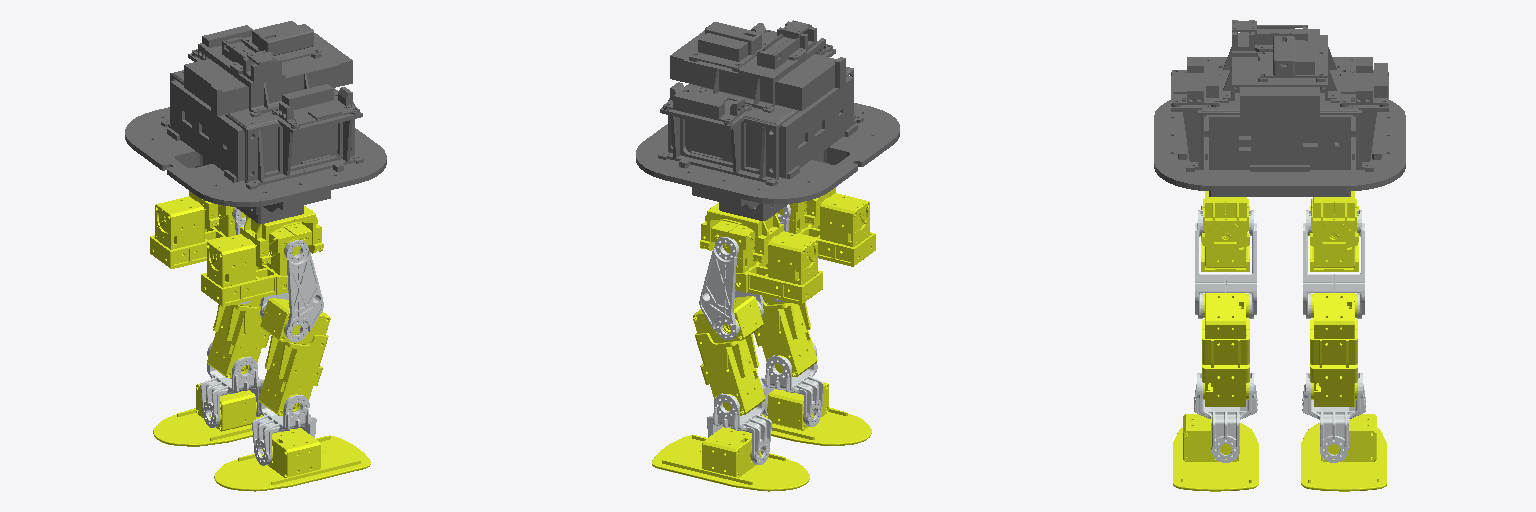
robot.urdf — exhx5_w_b_16:
<?xml version="1.0" encoding="utf-8"?>
<!-- This URDF was automatically created by SolidWorks to URDF Exporter! Originally created by [author] ([email redacted]) 
     Commit Version: 1.5.1-0-g916b5db  Build Version: 1.5.7152.31018
     For more information, please see http://wiki.ros.org/sw_urdf_exporter -->
<robot
  name="exhx5_w_b_16">
  <link
    name="body_link">
    <inertial>
      <origin
        xyz="0.00043545 0.00025536 0.10071"
        rpy="0 0 0" />
      <mass
        value="1.8238" />
      <inertia
        ixx="0.0025905"
        ixy="-5.6852E-06"
        ixz="-1.3106E-05"
        iyy="0.0024595"
        iyz="-1.261E-06"
        izz="0.0046407" />
    </inertial>
    <visual>
      <origin
        xyz="0 0 0"
        rpy="0 0 0" />
      <geometry>
        <mesh
          filename="../meshes/body_link.STL" />
      </geometry>
      <material
        name="">
        <color
          rgba="0.49804 0.49804 0.49804 1" />
      </material>
    </visual>
    <collision>
      <origin
        xyz="0 0 0"
        rpy="0 0 0" />
      <geometry>
        <mesh
          filename="../meshes/body_link.STL" />
      </geometry>
    </collision>
  </link>

  <link
    name="imu_link">
    <inertial>
      <origin
        xyz="-0.008387 1.336E-17 -0.0069463"
        rpy="0 0 0" />
      <mass
        value="0.0062931" />
      <inertia
        ixx="3.2242E-07"
        ixy="3.3527E-22"
        ixz="-6.9193E-08"
        iyy="9.2229E-07"
        iyz="-8.0392E-22"
        izz="1.1018E-06" />
    </inertial>
    <visual>
      <origin
        xyz="0 0 0"
        rpy="0 0 0" />
      <geometry>
        <mesh
          filename="../meshes/imu_link.STL" />
      </geometry>
      <material
        name="">
        <color
          rgba="0.79216 0.81961 0.93333 1" />
      </material>
    </visual>
    <collision>
      <origin
        xyz="0 0 0"
        rpy="0 0 0" />
      <geometry>
        <mesh
          filename="../meshes/imu_link.STL" />
      </geometry>
    </collision>
  </link>
  <joint
    name="imu"
    type="fixed">
    <origin
      xyz="0 0 0.0492"
      rpy="0 0 0" />
    <parent
      link="body_link" />
    <child
      link="imu_link" />
    <axis
      xyz="0 0 0" />
    <limit
      lower="-3.14"
      upper="3.14"
      effort="4"
      velocity="4" />
  </joint>
  <link
    name="l_hip_g_link">
    <inertial>
      <origin
        xyz="-0.0043797 -8.6604E-08 0.011813"
        rpy="0 0 0" />
      <mass
        value="0.061008" />
      <inertia
        ixx="1.167E-05"
        ixy="7.1767E-11"
        ixz="9.1442E-09"
        iyy="2.2342E-05"
        iyz="2.5177E-11"
        izz="2.4892E-05" />
    </inertial>
    <visual>
      <origin
        xyz="0 0 0"
        rpy="0 0 0" />
      <geometry>
        <mesh
          filename="../meshes/l_hip_g_link.STL" />
      </geometry>
      <material
        name="">
        <color
          rgba="0.9451 1 0.18431 1" />
      </material>
    </visual>
    <collision>
      <origin
        xyz="0 0 0"
        rpy="0 0 0" />
      <geometry>
        <mesh
          filename="../meshes/l_hip_g_link.STL" />
      </geometry>
    </collision>
  </link>
  <joint
    name="l_hip_g"
    type="fixed">
    <origin
      xyz="-.002 0.045 0"
      rpy="0 0 0" />
    <parent
      link="body_link" />
    <child
      link="l_hip_g_link" />
    <axis
      xyz="0 0 0" />
  </joint>
  <link
    name="l_hip_roll_link">
    <inertial>
      <origin
        xyz="0.013831 0.00033457 0.025453"
        rpy="0 0 0" />
      <mass
        value="0.2969" />
      <inertia
        ixx="7.8136E-05"
        ixy="7.265E-07"
        ixz="-6.9809E-08"
        iyy="9.2183E-05"
        iyz="-5.6881E-11"
        izz="7.1034E-05" />
    </inertial>
    <visual>
      <origin
        xyz="0 0 0"
        rpy="0 0 0" />
      <geometry>
        <mesh
          filename="../meshes/l_hip_roll_link.STL" />
      </geometry>
      <material
        name="">
        <color
          rgba="0.9451 1 0.18431 1" />
      </material>
    </visual>
    <collision>
      <origin
        xyz="0 0 0"
        rpy="0 0 0" />
      <geometry>
        <mesh
          filename="../meshes/l_hip_roll_link.STL" />
      </geometry>
    </collision>
  </link>
  <joint
    name="l_hip_roll"
    type="revolute">
    <origin
      xyz="0 0 0"
      rpy="3.1416 1.5708 0" />
    <parent
      link="l_hip_g_link" />
    <child
      link="l_hip_roll_link" />
    <axis
      xyz="0 0 1" />
    <limit
      lower="-3.14"
      upper="3.14"
      effort="4"
      velocity="4" />
  </joint>
  <link
    name="l_hip_pitch_link">
    <inertial>
      <origin
        xyz="0.041225 -0.007321 -5.0713E-08"
        rpy="0 0 0" />
      <mass
        value="0.051592" />
      <inertia
        ixx="2.7959E-05"
        ixy="2.0752E-06"
        ixz="-8.0934E-11"
        iyy="4.8156E-05"
        iyz="3.6317E-11"
        izz="2.9604E-05" />
    </inertial>
    <visual>
      <origin
        xyz="0 0 0"
        rpy="0 0 0" />
      <geometry>
        <mesh
          filename="../meshes/l_hip_pitch_link.STL" />
      </geometry>
      <material
        name="">
        <color
          rgba="0.89804 0.91765 0.92941 1" />
      </material>
    </visual>
    <collision>
      <origin
        xyz="0 0 0"
        rpy="0 0 0" />
      <geometry>
        <mesh
          filename="../meshes/l_hip_pitch_link.STL" />
      </geometry>
    </collision>
  </link>
  <joint
    name="l_hip_pitch"
    type="revolute">
    <origin
      xyz="0 0 0"
      rpy="1.5708 0 0" />
    <parent
      link="l_hip_roll_link" />
    <child
      link="l_hip_pitch_link" />
    <axis
      xyz="0 0 1" />
    <limit
      lower="-3.14"
      upper="3.14"
      effort="4"
      velocity="4" />
  </joint>
  <link
    name="l_knee_link">
    <inertial>
      <origin
        xyz="0.033756 -0.0084189 -6.6115E-09"
        rpy="0 0 0" />
      <mass
        value="0.28878" />
      <inertia
        ixx="6.6724E-05"
        ixy="7.5004E-07"
        ixz="-8.4578E-07"
        iyy="6.5699E-05"
        iyz="4.1085E-07"
        izz="7.0381E-05" />
    </inertial>
    <visual>
      <origin
        xyz="0 0 0"
        rpy="0 0 0" />
      <geometry>
        <mesh
          filename="../meshes/l_knee_link.STL" />
      </geometry>
      <material
        name="">
        <color
          rgba="0.9451 1 0.18431 1" />
      </material>
    </visual>
    <collision>
      <origin
        xyz="0 0 0"
        rpy="0 0 0" />
      <geometry>
        <mesh
          filename="../meshes/l_knee_link.STL" />
      </geometry>
    </collision>
  </link>
  <joint
    name="l_knee"
    type="revolute">
    <origin
      xyz="0.075954 0 0"
      rpy="0 0 0" />
    <parent
      link="l_hip_pitch_link" />
    <child
      link="l_knee_link" />
    <axis
      xyz="0 0 1" />
    <limit
      lower="-3.14"
      upper="3.14"
      effort="4"
      velocity="4" />
  </joint>
  <link
    name="l_ank_pitch_link">
    <inertial>
      <origin
        xyz="0.022786 -7.3909E-09 -7.1981E-06"
        rpy="0 0 0" />
      <mass
        value="0.044772" />
      <inertia
        ixx="1.777E-05"
        ixy="8.555E-14"
        ixz="-3.3713E-09"
        iyy="1.7119E-05"
        iyz="1.7593E-11"
        izz="1.8661E-05" />
    </inertial>
    <visual>
      <origin
        xyz="0 0 0"
        rpy="0 0 0" />
      <geometry>
        <mesh
          filename="../meshes/l_ank_pitch_link.STL" />
      </geometry>
      <material
        name="">
        <color
          rgba="0.89804 0.91765 0.92941 1" />
      </material>
    </visual>
    <collision>
      <origin
        xyz="0 0 0"
        rpy="0 0 0" />
      <geometry>
        <mesh
          filename="../meshes/l_ank_pitch_link.STL" />
      </geometry>
    </collision>
  </link>
  <joint
    name="l_ank_pitch"
    type="revolute">
    <origin
      xyz="0.074602 0 0"
      rpy="3.1416 0 0" />
    <parent
      link="l_knee_link" />
    <child
      link="l_ank_pitch_link" />
    <axis
      xyz="0 0 1" />
    <limit
      lower="-3.14"
      upper="3.14"
      effort="4"
      velocity="4" />
  </joint>
  <link
    name="l_ank_roll_link">
    <inertial>
      <origin
        xyz="0.0047069 0.010728 0.0015299"
        rpy="0 0 0" />
      <mass
        value="0.16774" />
      <inertia
        ixx="0.00012039"
        ixy="-3.7428E-09"
        ixz="4.4069E-08"
        iyy="8.7735E-05"
        iyz="7.0469E-07"
        izz="4.7866E-05" />
    </inertial>
    <visual>
      <origin
        xyz="0 0 0"
        rpy="0 0 0" />
      <geometry>
        <mesh
          filename="../meshes/l_ank_roll_link.STL" />
      </geometry>
      <material
        name="">
        <color
          rgba="0.9451 1 0.18431 1" />
      </material>
    </visual>
    <collision>
      <origin
        xyz="0 0 0"
        rpy="0 0 0" />
      <geometry>
        <mesh
          filename="../meshes/l_ank_roll_link.STL" />
      </geometry>
    </collision>
  </link>
  <joint
    name="l_ank_roll"
    type="revolute">
    <origin
      xyz="0.0465 0 0"
      rpy="-1.5708 0 0" />
    <parent
      link="l_ank_pitch_link" />
    <child
      link="l_ank_roll_link" />
    <axis
      xyz="0 0 1" />
    <limit
      lower="-3.14"
      upper="3.14"
      effort="4"
      velocity="4" />
  </joint>
  <link
    name="r_hip_g_link">
    <inertial>
      <origin
        xyz="-0.0043797 -8.6604E-08 0.011813"
        rpy="0 0 0" />
      <mass
        value="0.061008" />
      <inertia
        ixx="1.167E-05"
        ixy="7.1767E-11"
        ixz="9.1442E-09"
        iyy="2.2342E-05"
        iyz="2.5177E-11"
        izz="2.4892E-05" />
    </inertial>
    <visual>
      <origin
        xyz="0 0 0"
        rpy="0 0 0" />
      <geometry>
        <mesh
          filename="../meshes/r_hip_g_link.STL" />
      </geometry>
      <material
        name="">
        <color
          rgba="0.9451 1 0.18431 1" />
      </material>
    </visual>
    <collision>
      <origin
        xyz="0 0 0"
        rpy="0 0 0" />
      <geometry>
        <mesh
          filename="../meshes/r_hip_g_link.STL" />
      </geometry>
    </collision>
  </link>
  <joint
    name="r_hip_g"
    type="fixed">
    <origin
      xyz="-.002 -.045 0"
      rpy="0 0 0" />
    <parent
      link="body_link" />
    <child
      link="r_hip_g_link" />
    <axis
      xyz="0 0 0" />
  </joint>
  <link
    name="r_hip_roll_link">
    <inertial>
      <origin
        xyz="0.013831 0.00033457 0.025453"
        rpy="0 0 0" />
      <mass
        value="0.2969" />
      <inertia
        ixx="7.8136E-05"
        ixy="7.265E-07"
        ixz="-6.9809E-08"
        iyy="9.2183E-05"
        iyz="-5.6881E-11"
        izz="7.1034E-05" />
    </inertial>
    <visual>
      <origin
        xyz="0 0 0"
        rpy="0 0 0" />
      <geometry>
        <mesh
          filename="../meshes/r_hip_roll_link.STL" />
      </geometry>
      <material
        name="">
        <color
          rgba="0.9451 1 0.18431 1" />
      </material>
    </visual>
    <collision>
      <origin
        xyz="0 0 0"
        rpy="0 0 0" />
      <geometry>
        <mesh
          filename="../meshes/r_hip_roll_link.STL" />
      </geometry>
    </collision>
  </link>
  <joint
    name="r_hip_roll"
    type="revolute">
    <origin
      xyz="0 0 0"
      rpy="3.1416 1.5708 0" />
    <parent
      link="r_hip_g_link" />
    <child
      link="r_hip_roll_link" />
    <axis
      xyz="0 0 1" />
    <limit
      lower="-3.14"
      upper="3.14"
      effort="4"
      velocity="4" />
  </joint>
  <link
    name="r_hip_pitch_link">
    <inertial>
      <origin
        xyz="0.041225 0.007321 5.0713E-08"
        rpy="0 0 0" />
      <mass
        value="0.051592" />
      <inertia
        ixx="2.7959E-05"
        ixy="-2.0752E-06"
        ixz="8.0934E-11"
        iyy="4.8156E-05"
        iyz="3.6317E-11"
        izz="2.9604E-05" />
    </inertial>
    <visual>
      <origin
        xyz="0 0 0"
        rpy="0 0 0" />
      <geometry>
        <mesh
          filename="../meshes/r_hip_pitch_link.STL" />
      </geometry>
      <material
        name="">
        <color
          rgba="0.89804 0.91765 0.92941 1" />
      </material>
    </visual>
    <collision>
      <origin
        xyz="0 0 0"
        rpy="0 0 0" />
      <geometry>
        <mesh
          filename="../meshes/r_hip_pitch_link.STL" />
      </geometry>
    </collision>
  </link>
  <joint
    name="r_hip_pitch"
    type="revolute">
    <origin
      xyz="0 0 0"
      rpy="-1.5708 0 0" />
    <parent
      link="r_hip_roll_link" />
    <child
      link="r_hip_pitch_link" />
    <axis
      xyz="0 0 1" />
    <limit
      lower="-3.14"
      upper="3.14"
      effort="4"
      velocity="4" />
  </joint>
  <link
    name="r_knee_link">
    <inertial>
      <origin
        xyz="0.033757 0.0084176 6.6115E-09"
        rpy="0 0 0" />
      <mass
        value="0.28878" />
      <inertia
        ixx="6.6724E-05"
        ixy="-7.5008E-07"
        ixz="8.458E-07"
        iyy="6.5699E-05"
        iyz="4.1081E-07"
        izz="7.0381E-05" />
    </inertial>
    <visual>
      <origin
        xyz="0 0 0"
        rpy="0 0 0" />
      <geometry>
        <mesh
          filename="../meshes/r_knee_link.STL" />
      </geometry>
      <material
        name="">
        <color
          rgba="0.9451 1 0.18431 1" />
      </material>
    </visual>
    <collision>
      <origin
        xyz="0 0 0"
        rpy="0 0 0" />
      <geometry>
        <mesh
          filename="../meshes/r_knee_link.STL" />
      </geometry>
    </collision>
  </link>
  <joint
    name="r_knee"
    type="revolute">
    <origin
      xyz="0.075954 0 0"
      rpy="0 0 0" />
    <parent
      link="r_hip_pitch_link" />
    <child
      link="r_knee_link" />
    <axis
      xyz="0 0 1" />
    <limit
      lower="-3.14"
      upper="3.14"
      effort="4"
      velocity="4" />
  </joint>
  <link
    name="r_ank_pitch_link">
    <inertial>
      <origin
        xyz="0.025786 -7.3887E-09 -7.1981E-06"
        rpy="0 0 0" />
      <mass
        value="0.044772" />
      <inertia
        ixx="1.777E-05"
        ixy="8.5434E-14"
        ixz="-3.3713E-09"
        iyy="1.7119E-05"
        iyz="1.7592E-11"
        izz="1.8661E-05" />
    </inertial>
    <visual>
      <origin
        xyz="0 0 0"
        rpy="0 0 0" />
      <geometry>
        <mesh
          filename="../meshes/r_ank_pitch_link.STL" />
      </geometry>
      <material
        name="">
        <color
          rgba="0.89804 0.91765 0.92941 1" />
      </material>
    </visual>
    <collision>
      <origin
        xyz="0 0 0"
        rpy="0 0 0" />
      <geometry>
        <mesh
          filename="../meshes/r_ank_pitch_link.STL" />
      </geometry>
    </collision>
  </link>
  <joint
    name="r_ank_pitch"
    type="revolute">
    <origin
      xyz="0.071602 0 0"
      rpy="3.1416 0 0" />
    <parent
      link="r_knee_link" />
    <child
      link="r_ank_pitch_link" />
    <axis
      xyz="0 0 1" />
    <limit
      lower="-3.14"
      upper="3.14"
      effort="4"
      velocity="4" />
  </joint>
  <link
    name="r_ank_roll_link">
    <inertial>
      <origin
        xyz="0.0077069 -0.010728 0.0015299"
        rpy="0 0 0" />
      <mass
        value="0.16774" />
      <inertia
        ixx="0.00012039"
        ixy="3.743E-09"
        ixz="4.407E-08"
        iyy="8.7735E-05"
        iyz="-7.0467E-07"
        izz="4.7866E-05" />
    </inertial>
    <visual>
      <origin
        xyz="0 0 0"
        rpy="0 0 0" />
      <geometry>
        <mesh
          filename="../meshes/r_ank_roll_link.STL" />
      </geometry>
      <material
        name="">
        <color
          rgba="0.9451 1 0.18431 1" />
      </material>
    </visual>
    <collision>
      <origin
        xyz="0 0 0"
        rpy="0 0 0" />
      <geometry>
        <mesh
          filename="../meshes/r_ank_roll_link.STL" />
      </geometry>
    </collision>
  </link>
  <joint
    name="r_ank_roll"
    type="revolute">
    <origin
      xyz="0.0465 0 0"
      rpy="1.5708 0 0" />
    <parent
      link="r_ank_pitch_link" />
    <child
      link="r_ank_roll_link" />
    <axis
      xyz="0 0 1" />
    <limit
      lower="-3.14"
      upper="3.14"
      effort="4"
      velocity="4" />
  </joint>
  <transmission name="r_hip_roll_tran">
    <type>transmission_interface/SimpleTransmission</type>
    <joint name="r_hip_roll">
      <hardwareInterface>hardware_interface/EffortJointInterface</hardwareInterface>
    </joint>
    <actuator name="r_hip_roll_motor">
      <hardwareInterface>hardware_interface/EffortJointInterface</hardwareInterface>
      <mechanicalReduction>1</mechanicalReduction>
    </actuator>
  </transmission>
  <transmission name="r_hip_pitch_tran">
    <type>transmission_interface/SimpleTransmission</type>
    <joint name="r_hip_pitch">
      <hardwareInterface>hardware_interface/EffortJointInterface</hardwareInterface>
    </joint>
    <actuator name="r_hip_pitch_motor">
      <hardwareInterface>hardware_interface/EffortJointInterface</hardwareInterface>
      <mechanicalReduction>1</mechanicalReduction>
    </actuator>
  </transmission>
  <transmission name="r_knee_tran">
    <type>transmission_interface/SimpleTransmission</type>
    <joint name="r_knee">
      <hardwareInterface>hardware_interface/EffortJointInterface</hardwareInterface>
    </joint>
    <actuator name="r_knee_motor">
      <hardwareInterface>hardware_interface/EffortJointInterface</hardwareInterface>
      <mechanicalReduction>1</mechanicalReduction>
    </actuator>
  </transmission>
  <transmission name="r_ank_pitch_tran">
    <type>transmission_interface/SimpleTransmission</type>
    <joint name="r_ank_pitch">
      <hardwareInterface>hardware_interface/EffortJointInterface</hardwareInterface>
    </joint>
    <actuator name="r_ank_pitch_motor">
      <hardwareInterface>hardware_interface/EffortJointInterface</hardwareInterface>
      <mechanicalReduction>1</mechanicalReduction>
    </actuator>
  </transmission>
  <transmission name="r_ank_roll_tran">
    <type>transmission_interface/SimpleTransmission</type>
    <joint name="r_ank_roll">
      <hardwareInterface>hardware_interface/EffortJointInterface</hardwareInterface>
    </joint>
    <actuator name="r_ank_roll_motor">
      <hardwareInterface>hardware_interface/EffortJointInterface</hardwareInterface>
      <mechanicalReduction>1</mechanicalReduction>
    </actuator>
  </transmission>
  <transmission name="l_hip_roll_tran">
    <type>transmission_interface/SimpleTransmission</type>
    <joint name="l_hip_roll">
      <hardwareInterface>hardware_interface/EffortJointInterface</hardwareInterface>
    </joint>
    <actuator name="l_hip_roll_motor">
      <hardwareInterface>hardware_interface/EffortJointInterface</hardwareInterface>
      <mechanicalReduction>1</mechanicalReduction>
    </actuator>
  </transmission>
  <transmission name="l_hip_pitch_tran">
    <type>transmission_interface/SimpleTransmission</type>
    <joint name="l_hip_pitch">
      <hardwareInterface>hardware_interface/EffortJointInterface</hardwareInterface>
    </joint>
    <actuator name="l_hip_pitch_motor">
      <hardwareInterface>hardware_interface/EffortJointInterface</hardwareInterface>
      <mechanicalReduction>1</mechanicalReduction>
    </actuator>
  </transmission>
  <transmission name="l_knee_tran">
    <type>transmission_interface/SimpleTransmission</type>
    <joint name="l_knee">
      <hardwareInterface>hardware_interface/EffortJointInterface</hardwareInterface>
    </joint>
    <actuator name="l_knee_motor">
      <hardwareInterface>hardware_interface/EffortJointInterface</hardwareInterface>
      <mechanicalReduction>1</mechanicalReduction>
    </actuator>
  </transmission>
  <transmission name="l_ank_pitch_tran">
    <type>transmission_interface/SimpleTransmission</type>
    <joint name="l_ank_pitch">
      <hardwareInterface>hardware_interface/EffortJointInterface</hardwareInterface>
    </joint>
    <actuator name="l_ank_pitch_motor">
      <hardwareInterface>hardware_interface/EffortJointInterface</hardwareInterface>
      <mechanicalReduction>1</mechanicalReduction>
    </actuator>
  </transmission>
  <transmission name="l_ank_roll_tran">
    <type>transmission_interface/SimpleTransmission</type>
    <joint name="l_ank_roll">
      <hardwareInterface>hardware_interface/EffortJointInterface</hardwareInterface>
    </joint>
    <actuator name="l_ank_roll_motor">
      <hardwareInterface>hardware_interface/EffortJointInterface</hardwareInterface>
      <mechanicalReduction>1</mechanicalReduction>
    </actuator>
  </transmission>
</robot>

--- Facts derived from the render (not from the file) ---
Views: 3 orthographic renders of the robot side by side, from view 1: azimuth 30°, elevation 25°; view 2: azimuth 150°, elevation 25°; view 3: azimuth 270°, elevation 25°.
Model exhx5_w_b_16 with 14 links and 13 joints (10 revolute, 3 fixed), rooted at body_link, posed every joint at zero.
Links seen in each view (by area): view 1: body_link, r_ank_roll_link, r_hip_roll_link, r_knee_link, l_hip_roll_link, l_ank_roll_link, l_knee_link, r_hip_pitch_link, r_ank_pitch_link, l_ank_pitch_link, r_hip_g_link; view 2: body_link, l_ank_roll_link, l_hip_roll_link, l_knee_link, r_hip_roll_link, r_ank_roll_link, r_knee_link, l_hip_pitch_link, l_ank_pitch_link, r_ank_pitch_link, l_hip_g_link; view 3: body_link, l_knee_link, r_knee_link, r_ank_roll_link, l_ank_roll_link, l_ank_pitch_link, r_ank_pitch_link, l_hip_pitch_link, r_hip_pitch_link, l_hip_g_link, r_hip_g_link, l_hip_roll_link (+1 smaller).
Link boxes in pixels (x1,y1,x2,y2): body_link: (125,21,386,223); r_ank_roll_link: (214,428,370,491); r_hip_roll_link: (201,222,311,306); r_knee_link: (258,298,330,415); l_hip_roll_link: (150,196,245,268); l_ank_roll_link: (153,383,262,446); l_knee_link: (207,298,269,378); r_hip_pitch_link: (260,239,323,341); r_ank_pitch_link: (252,379,316,465); l_ank_pitch_link: (200,342,262,427); r_hip_g_link: (240,206,323,266); body_link: (636,20,899,220); l_ank_roll_link: (652,427,809,491); l_hip_roll_link: (711,219,822,304); l_knee_link: (693,296,765,415); r_hip_roll_link: (778,193,875,266); r_ank_roll_link: (761,382,871,445); r_knee_link: (754,296,817,376); l_hip_pitch_link: (699,237,763,339); l_ank_pitch_link: (707,378,771,464); r_ank_pitch_link: (761,341,823,426); l_hip_g_link: (700,203,783,263); body_link: (1154,20,1405,196); l_knee_link: (1310,293,1357,406); r_knee_link: (1202,293,1249,406); r_ank_roll_link: (1173,414,1258,491); l_ank_roll_link: (1301,414,1386,491); l_ank_pitch_link: (1302,373,1365,462); r_ank_pitch_link: (1194,373,1257,462); l_hip_pitch_link: (1303,210,1364,318); r_hip_pitch_link: (1195,210,1256,318); l_hip_g_link: (1310,191,1358,246); r_hip_g_link: (1201,191,1249,246); l_hip_roll_link: (1310,199,1358,271).
Bounding box of the posed robot: 0.185 × 0.21 × 0.3893 m (x, y, z).
14 mesh visuals loaded from 14 distinct referenced files (14 binary STL).
